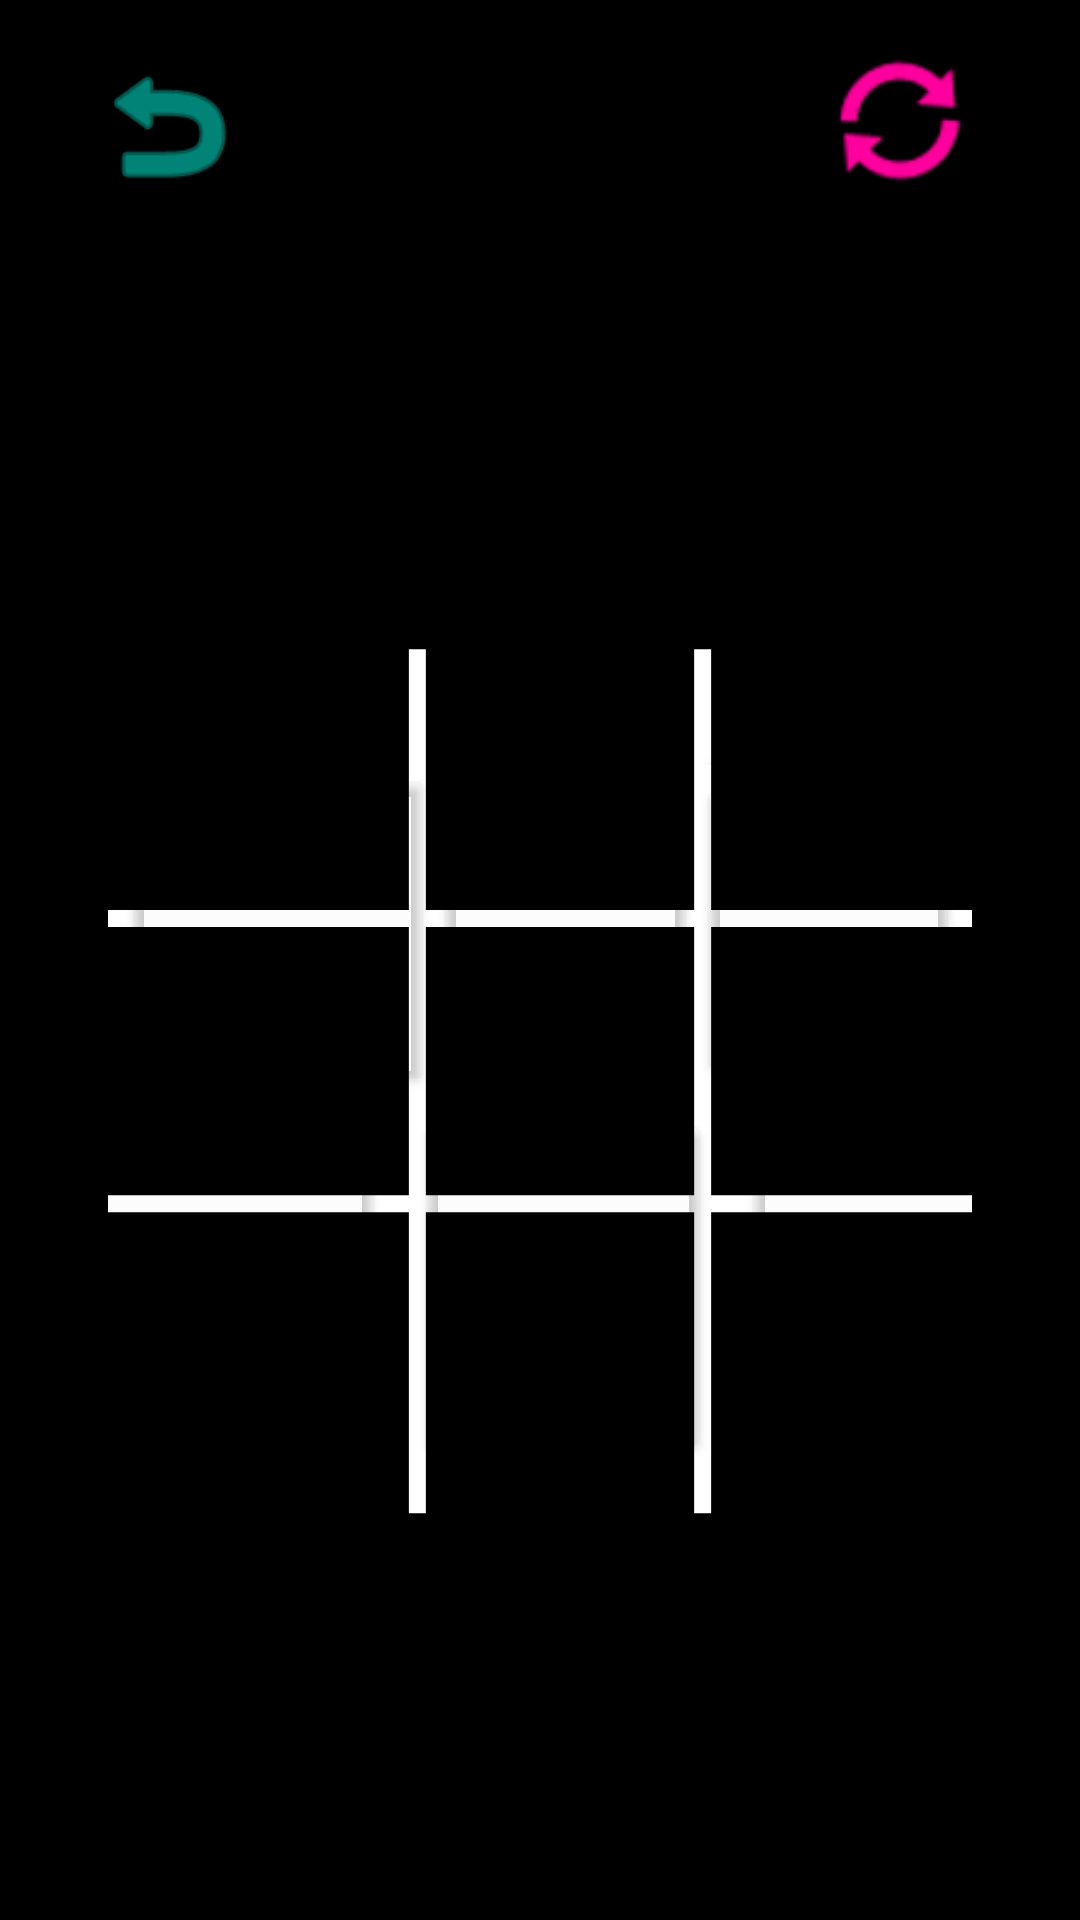

Icons on this 1080 × 1920 Android screen, each with its box as (x1, y1, x2, y2):
popup sync: (840, 60, 961, 181)
revert: (114, 76, 226, 178)
